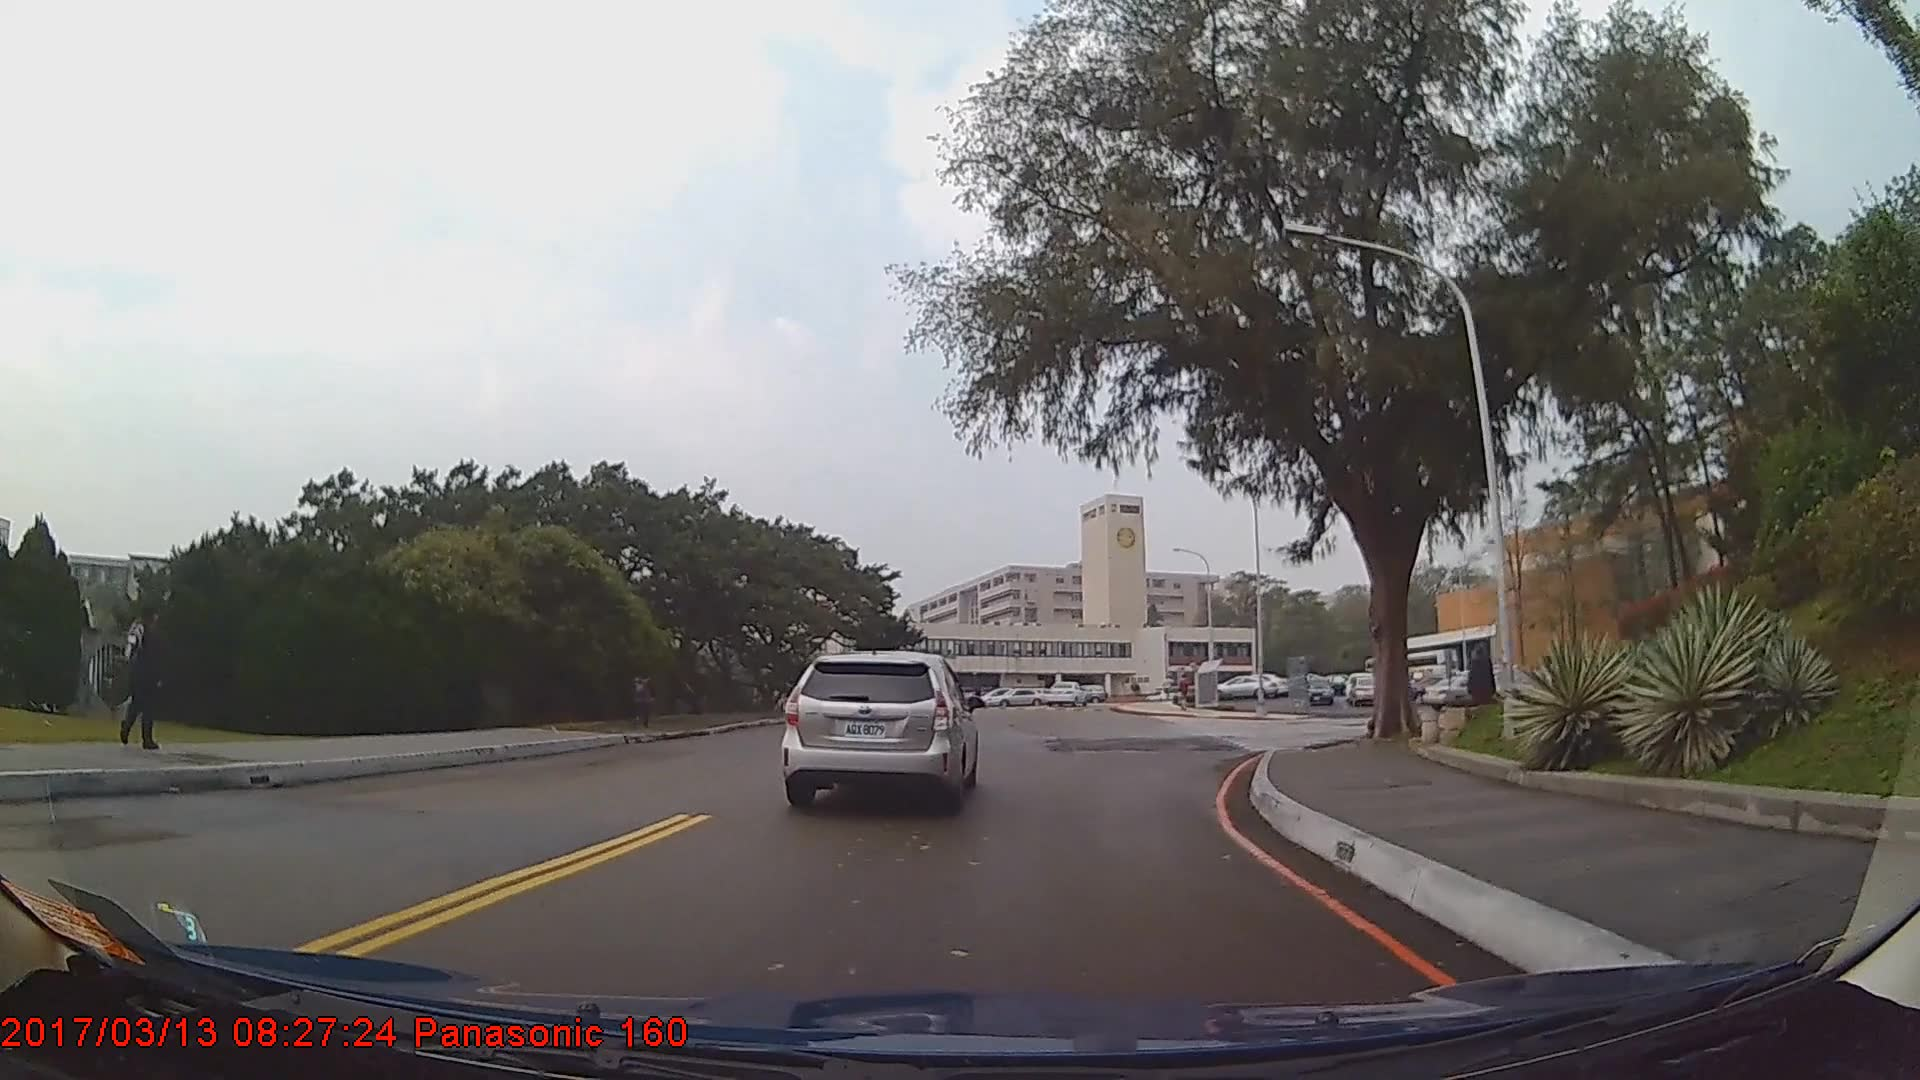pedestrian: (114, 603, 169, 750), (1468, 641, 1502, 746)
vehicle: (782, 647, 977, 808), (1422, 673, 1501, 708), (1214, 672, 1280, 701), (983, 685, 1048, 709), (1041, 680, 1088, 707), (1349, 674, 1383, 706), (1305, 679, 1333, 708)
